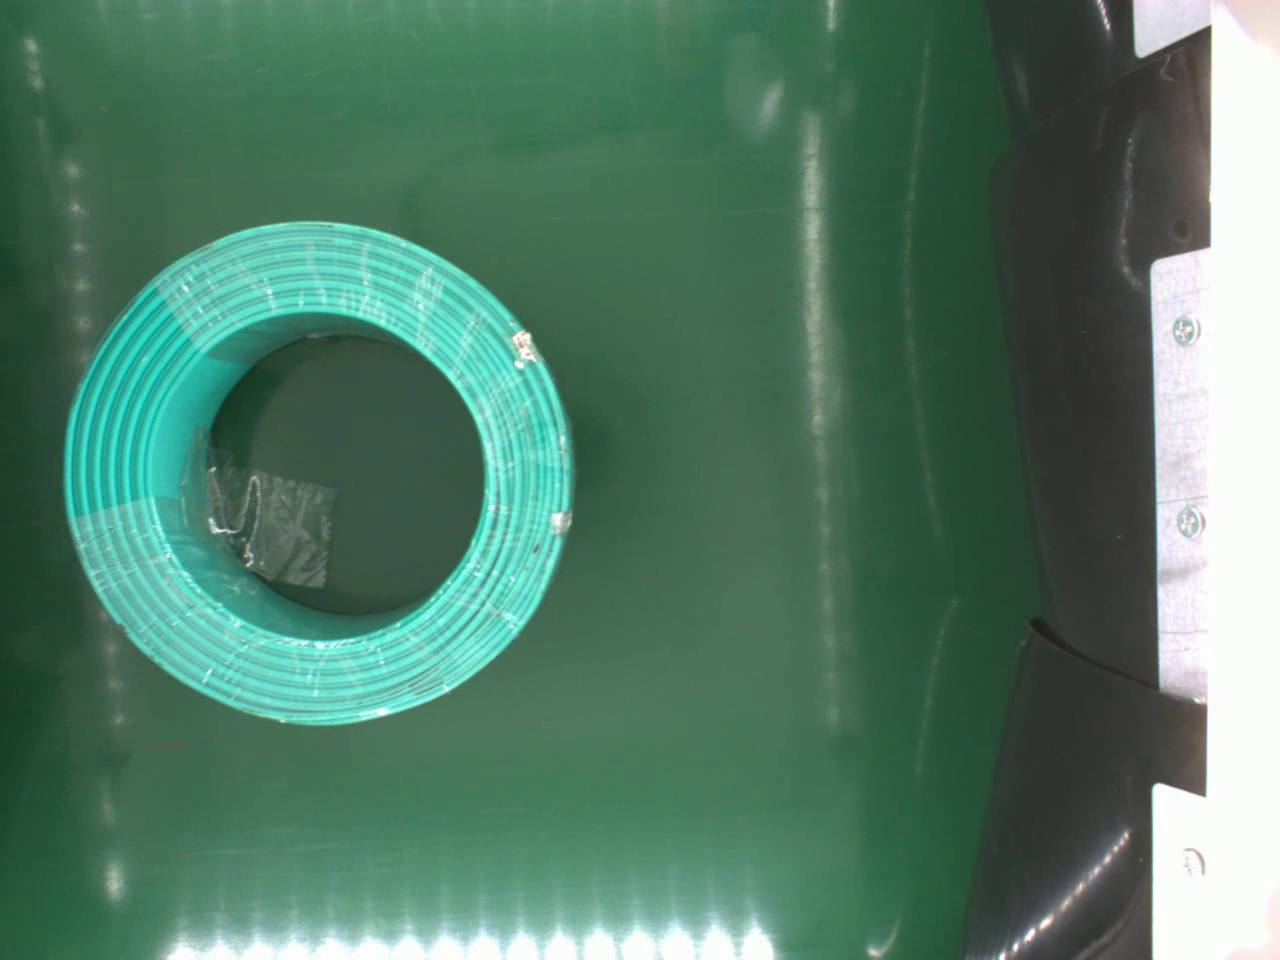green: (63, 211, 579, 728)
